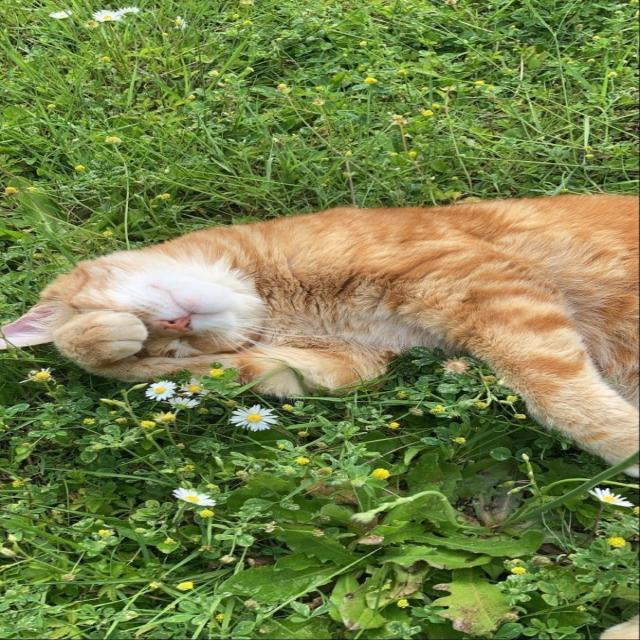sarman: (0, 132, 640, 559)
